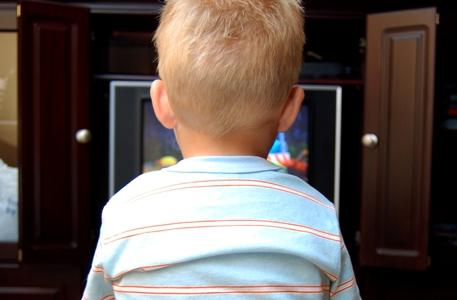person: (83, 1, 362, 299)
